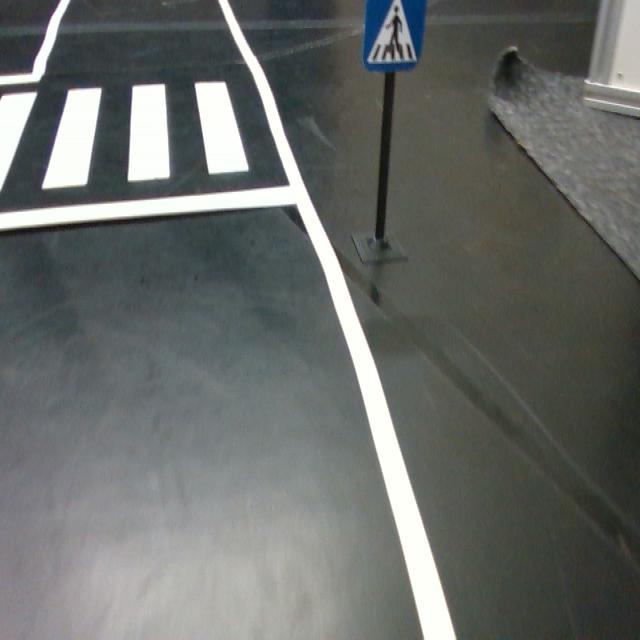crosswalk-sign: (362, 0, 428, 71)
